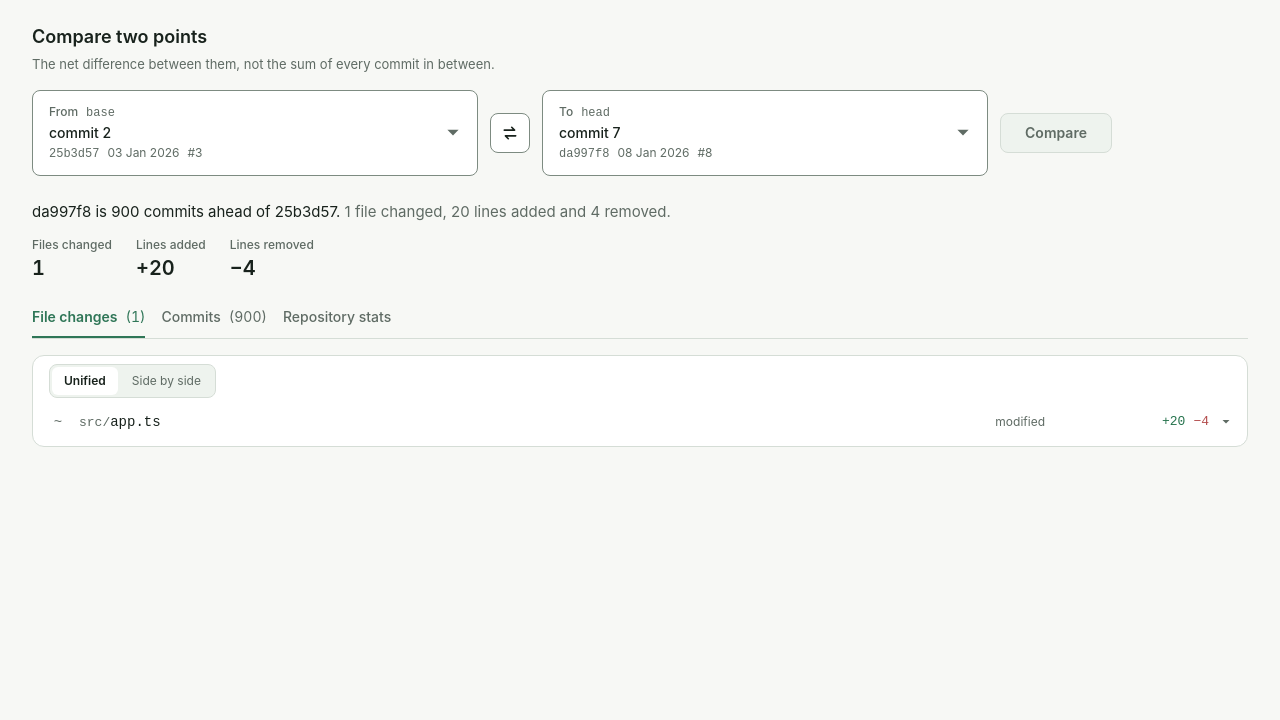
Test: CompareView directions › says a truncated commit list is truncated
Step 1. Click the tab "Commits (900)" → coordinates (214, 318), box 161,298 -> 267,338
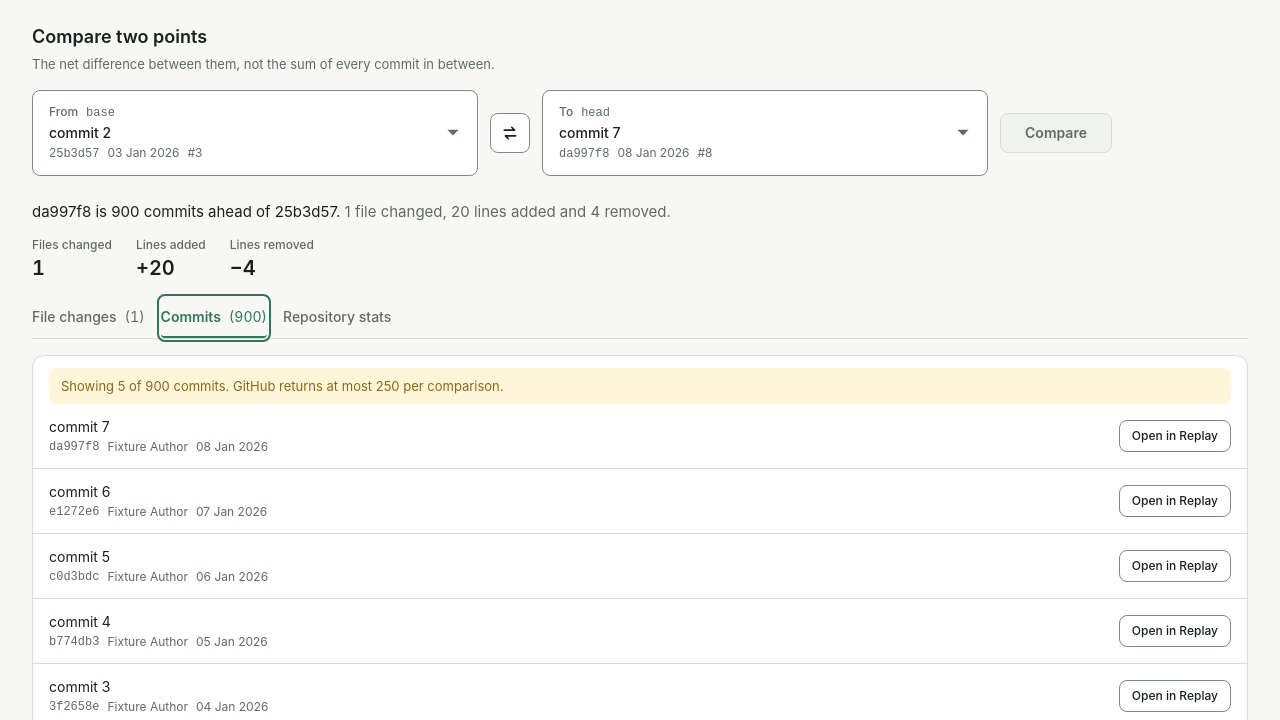
Expected: the text "at most 250 per comparison" is shown, 170,378 -> 504,394
